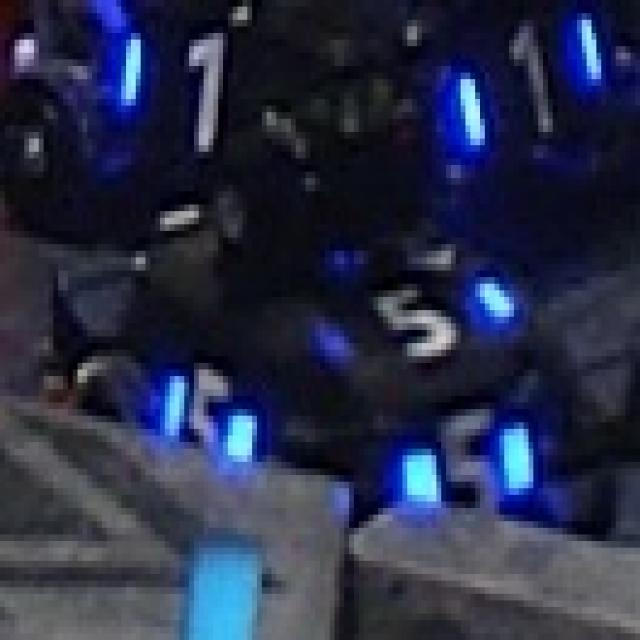B5: (398, 409, 538, 528), (160, 356, 257, 462)
